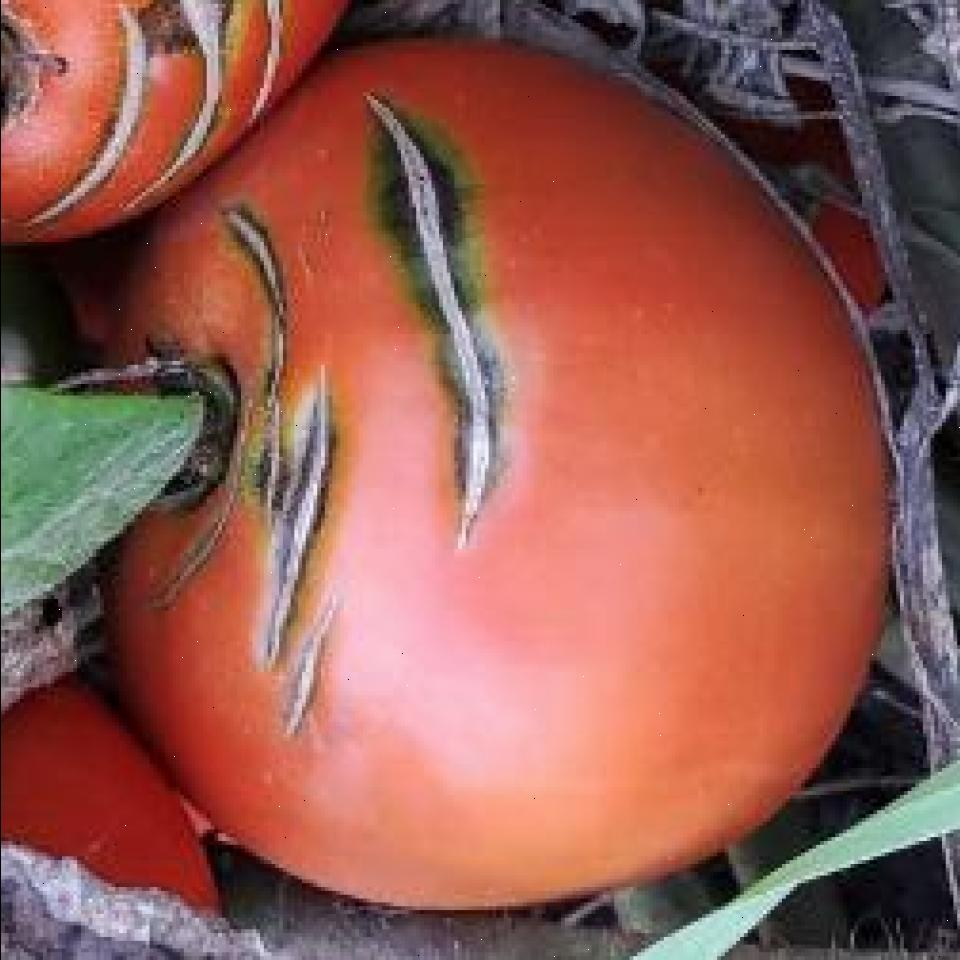Cracking: (353, 82, 511, 518), (0, 0, 145, 238), (200, 195, 287, 505), (258, 343, 316, 665), (141, 0, 225, 173), (276, 555, 336, 787), (248, 0, 286, 138)
